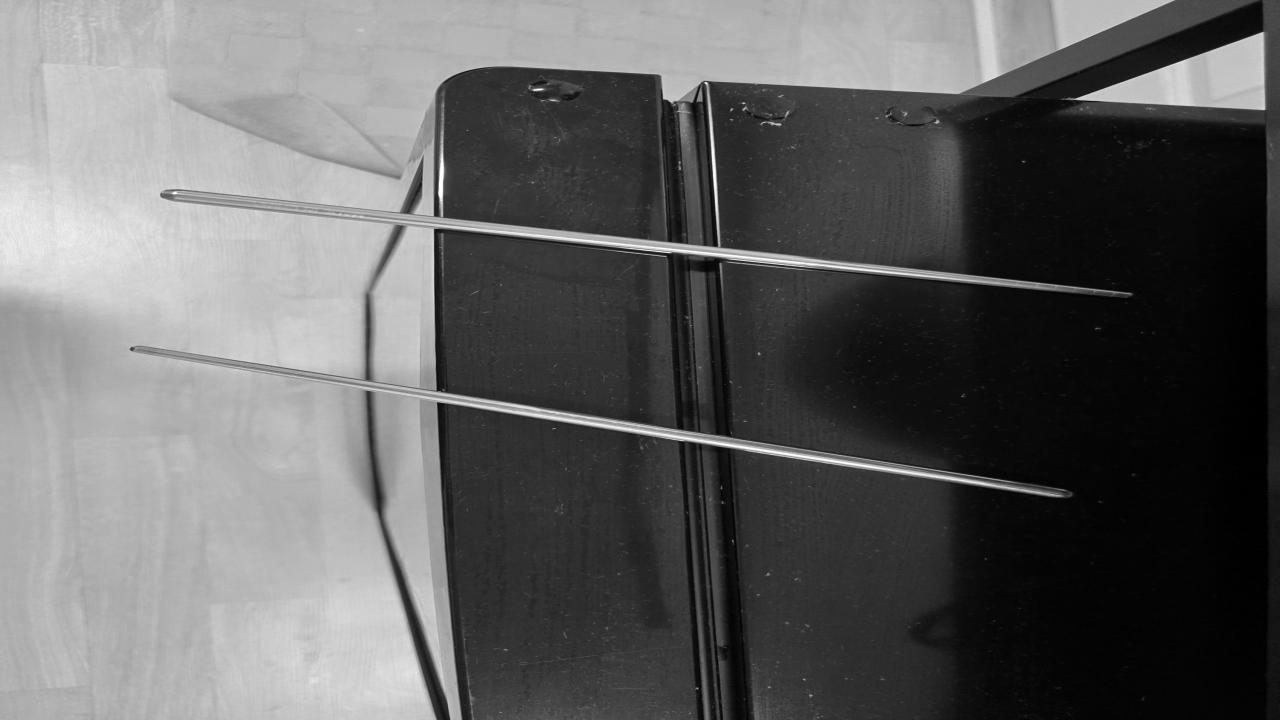chopstick: (132, 346, 1077, 501), (158, 188, 1139, 300)
